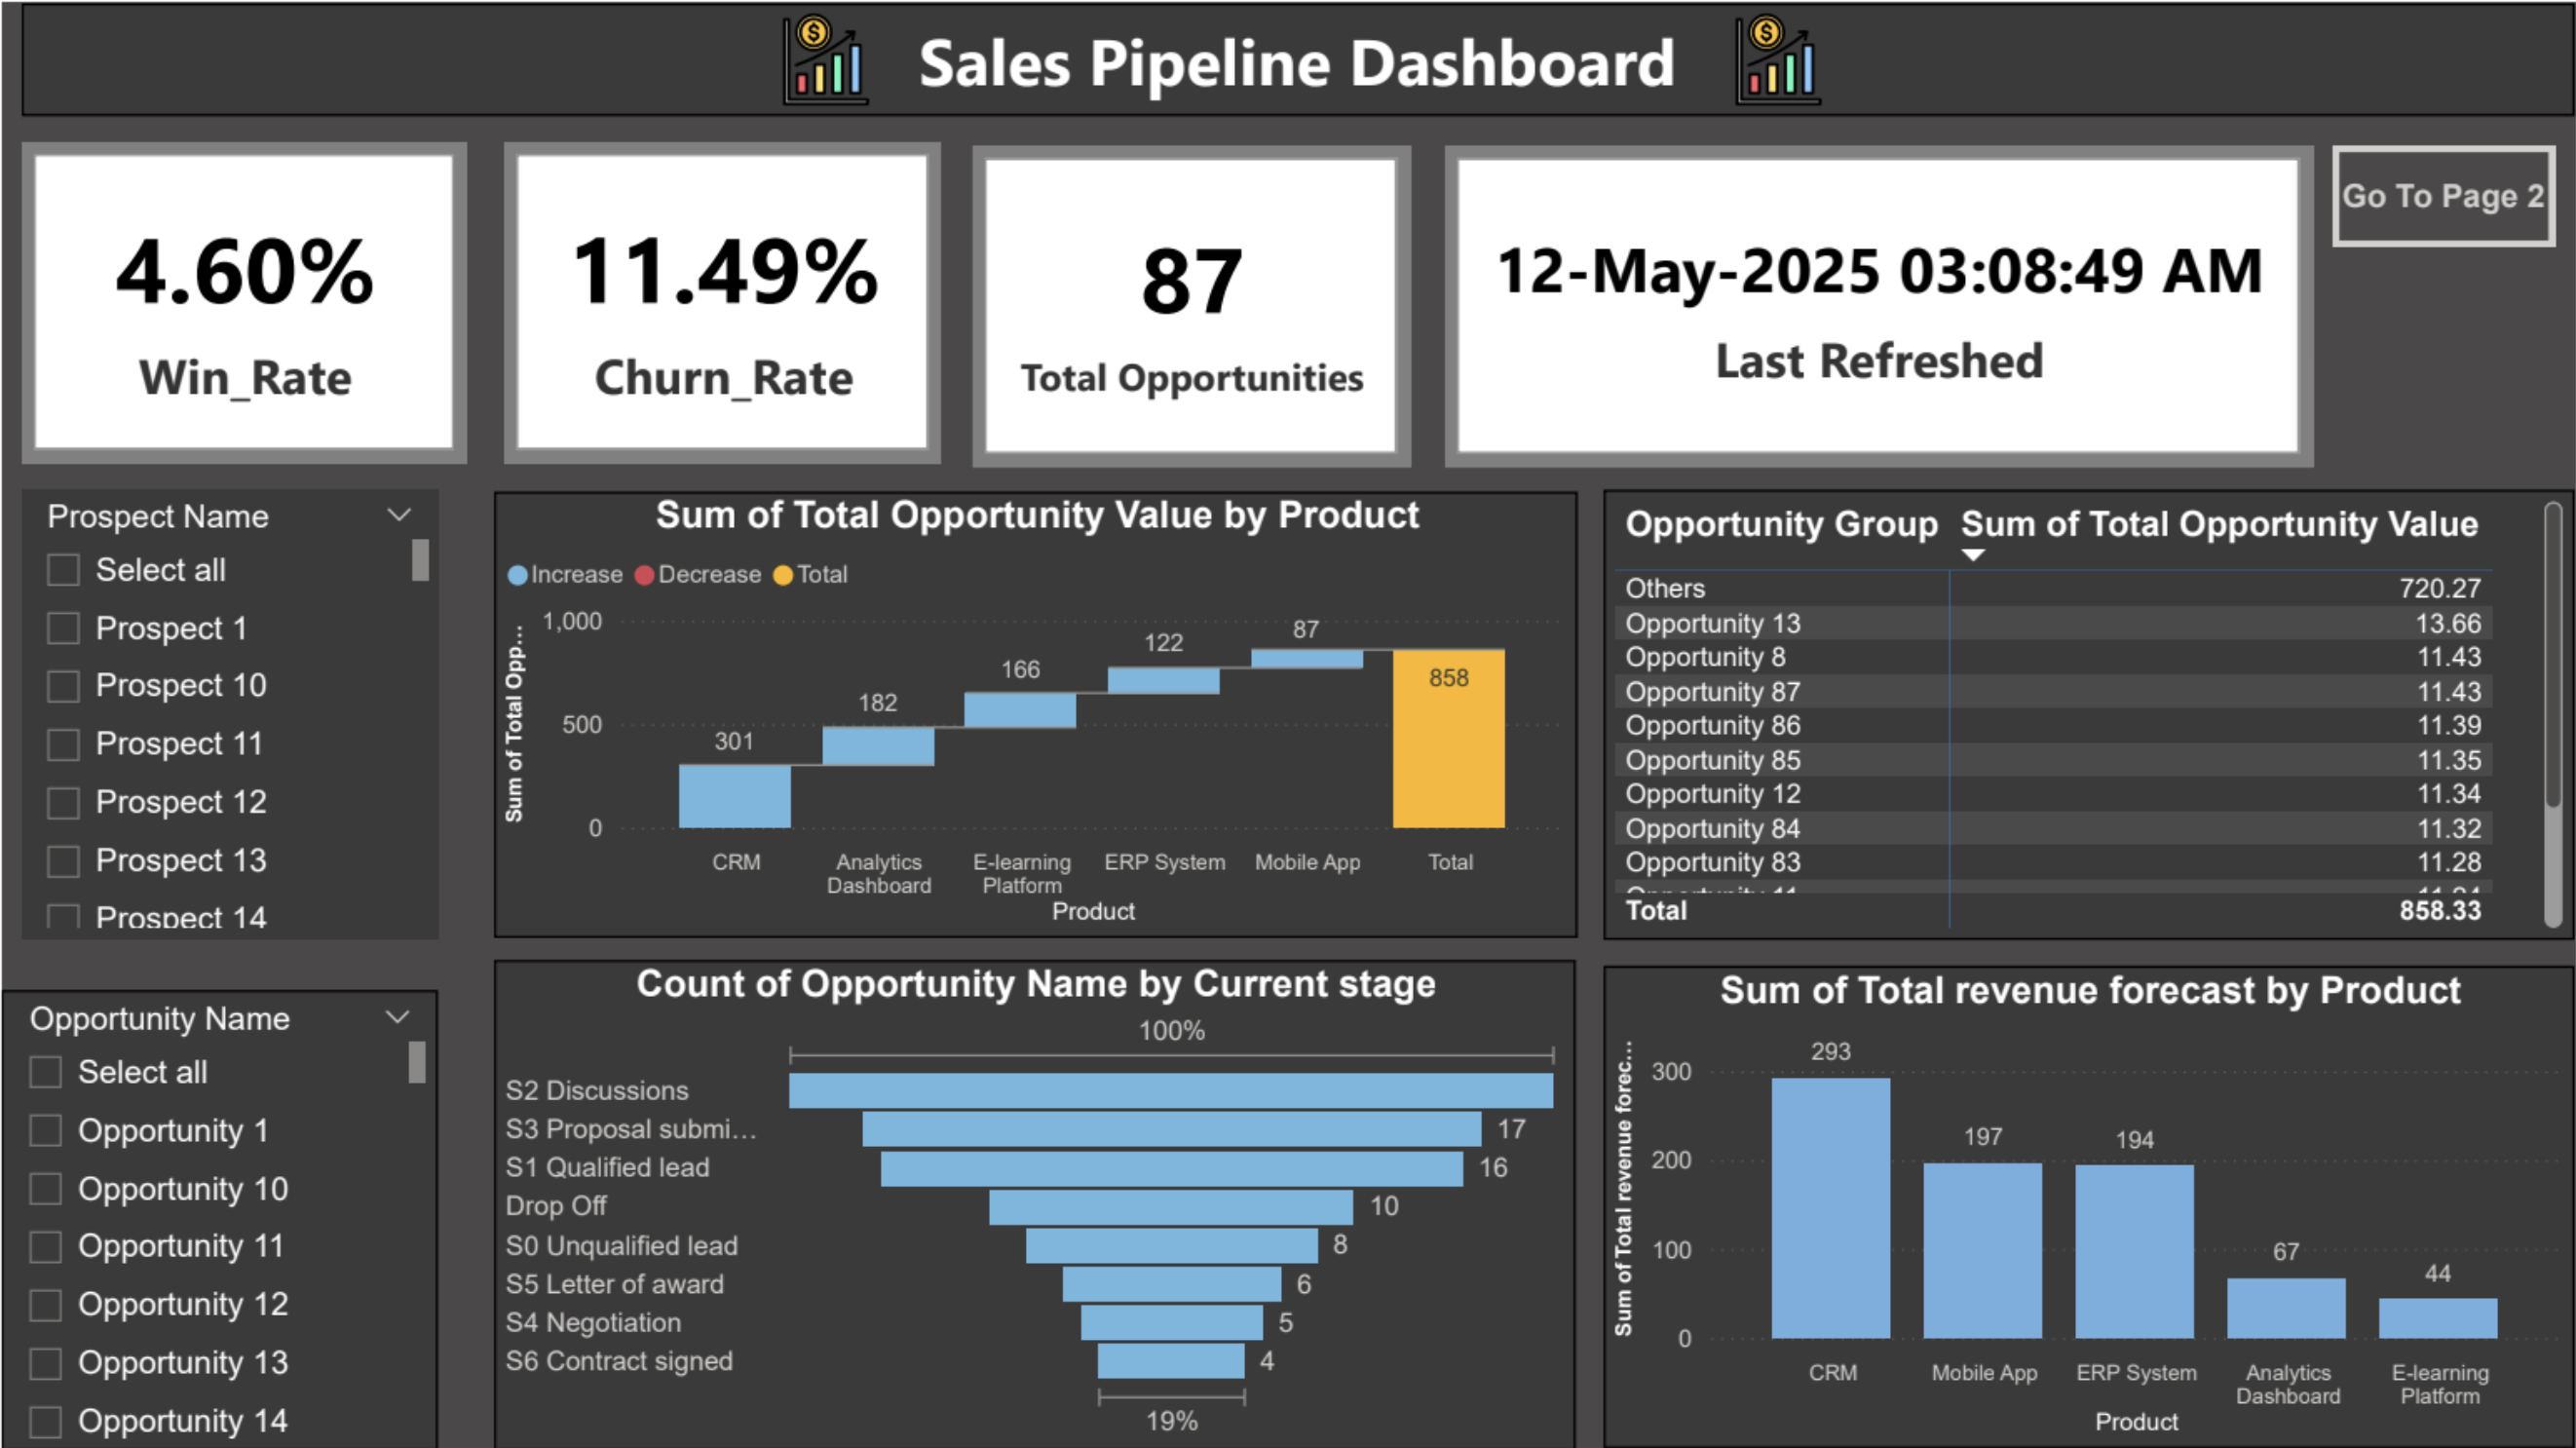

This screenshot's page, from the dashboard's own definition file:
{"tool":"powerbi","page":{"name":"Sales Pipeline Overview","canvas":[1280,720],"ordinal":0},"visuals":[{"type":"textbox","box":[10.3,0,1269.7,56.2],"z":0},{"type":"cardVisual","fields":{"Data":["Measures Table.Churn_Rate"]},"box":[249.8,69.5,217.3,159.6],"z":1000},{"type":"cardVisual","fields":{"Data":["Sales Pipeline Stages  (Data).Total Opportunities"]},"box":[483.3,70.9,217.3,159.6],"z":2000},{"type":"cardVisual","fields":{"Data":["Measures Table.Last Refreshed"]},"box":[718.3,70.9,431.6,159.6],"z":3000},{"type":"actionButton","box":[1159.9,70.6,110.2,50.8],"z":4000},{"type":"waterfallChart","fields":{"Category":["Sales Pipeline Stages  (Data).Product"],"Y":["Sum(Sales Pipeline Stages  (Data).Total Opportunity Value)"]},"box":[245.1,242.6,538.5,222.8],"z":5000},{"type":"funnel","fields":{"Category":["Sales Pipeline Stages  (Data).Current stage"],"Y":["CountNonNull(Sales Pipeline Stages  (Data).Opportunity Name)"]},"box":[245.4,475.9,538,243.9],"z":6000},{"type":"pivotTable","fields":{"Values":["Sum(Sales Pipeline Stages  (Data).Total Opportunity Value)"],"Rows":["Sales Pipeline Stages  (Data).Opportunity Group"]},"box":[796.7,242.4,483.3,223.2],"z":7000},{"type":"clusteredColumnChart","fields":{"Y":["Sum(Sales Pipeline Stages  (Data).Total revenue forecast)"],"Category":["Sales Pipeline Stages  (Data).Product"]},"box":[797.2,479.1,482.8,240.2],"z":8000},{"type":"slicer","fields":{"Values":["Sales Pipeline Stages  (Data).Opportunity Name"]},"box":[0,490.7,217.3,229.1],"z":9000},{"type":"image","box":[359,0,101.5,55.7],"z":10000},{"type":"image","box":[833.1,0,101.5,55.7],"z":11000},{"type":"cardVisual","fields":{"Data":["Measures Table.Win_Rate"]},"box":[9.9,69.3,221.6,159.7],"z":12000},{"type":"slicer","fields":{"Values":["Sales Pipeline Stages  (Data).Prospect Name"]},"box":[10.3,242.4,206.9,223.2],"z":13000}]}

Visuals, with their boxes in screenshot pixels (x1, y1, x2, y2), scaled from the page's 1280x720 canvas onto the 2576x1448 screenshot:
textbox: (20, 0, 2575, 113)
cardVisual - Measures Table.Churn_Rate: (503, 139, 940, 461)
cardVisual - Sales Pipeline Stages  (Data).Total Opportunities: (972, 142, 1410, 464)
cardVisual - Measures Table.Last Refreshed: (1446, 142, 2314, 464)
actionButton: (2334, 142, 2557, 245)
waterfallChart - Sales Pipeline Stages  (Data).Product x Sum(Sales Pipeline Stages  (Data).Total Opportunity Value): (493, 488, 1577, 936)
funnel - Sales Pipeline Stages  (Data).Current stage x CountNonNull(Sales Pipeline Stages  (Data).Opportunity Name): (494, 957, 1576, 1447)
pivotTable - Sum(Sales Pipeline Stages  (Data).Total Opportunity Value) x Sales Pipeline Stages  (Data).Opportunity Group: (1604, 487, 2575, 936)
clusteredColumnChart - Sum(Sales Pipeline Stages  (Data).Total revenue forecast) x Sales Pipeline Stages  (Data).Product: (1605, 964, 2575, 1447)
slicer - Sales Pipeline Stages  (Data).Opportunity Name: (0, 987, 437, 1447)
image: (723, 0, 927, 112)
image: (1677, 0, 1881, 112)
cardVisual - Measures Table.Win_Rate: (19, 139, 466, 461)
slicer - Sales Pipeline Stages  (Data).Prospect Name: (20, 487, 437, 936)
